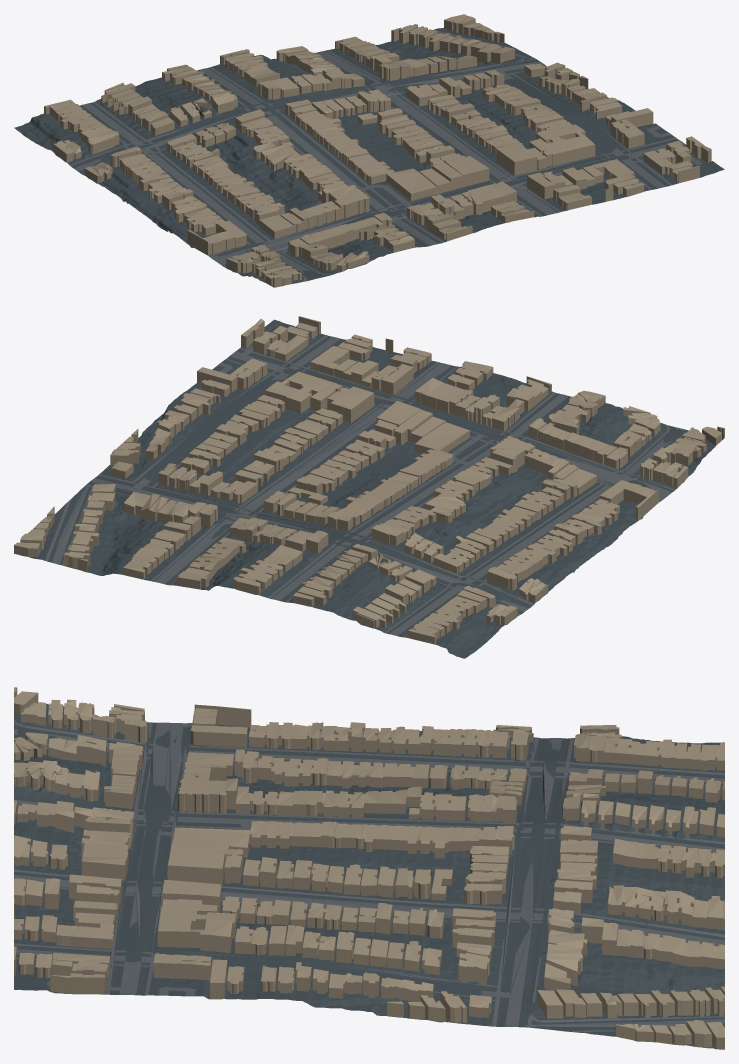
Rendered from epsg26910-1423-10878.lod0.glb.
3 renders of one model, top to bottom at view 1: azimuth 30°, elevation 25°; view 2: azimuth 150°, elevation 25°; view 3: azimuth 270°, elevation 25°, orthographic. The views are drawn at different scales.
Visible parts, largest first — view 1: epsg26910-1423-10878-lod0; view 2: epsg26910-1423-10878-lod0; view 3: epsg26910-1423-10878-lod0.
Part boxes in pixels (x1,y1,x2,y2): epsg26910-1423-10878-lod0: (14, 14, 724, 287); epsg26910-1423-10878-lod0: (14, 316, 724, 658); epsg26910-1423-10878-lod0: (14, 687, 724, 1049).
Size of the model in its own units: 384 by 45.2 by 384.
